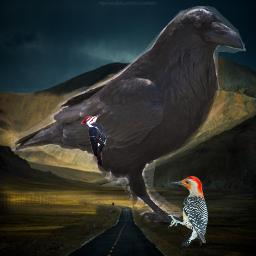Crow: (11, 6, 246, 222)
Woodpecker: (168, 176, 210, 247), (81, 114, 110, 166)
